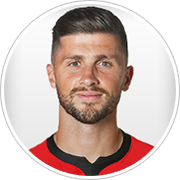smile: (76, 90, 102, 102)
